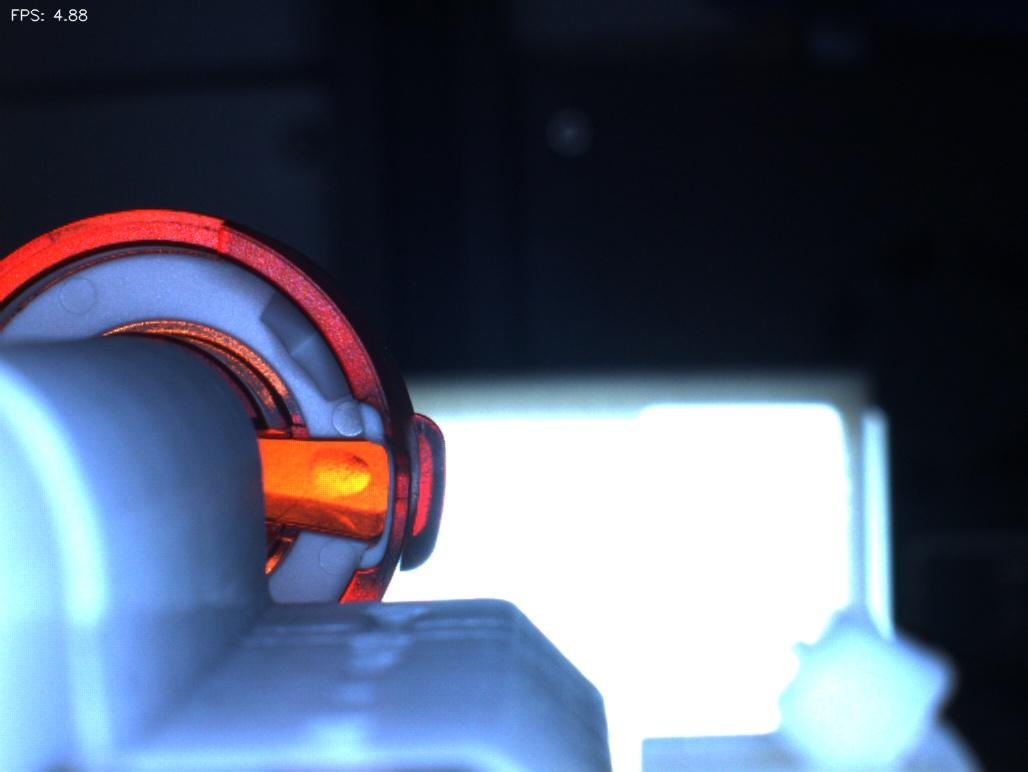Retassure: (282, 439, 383, 514)
